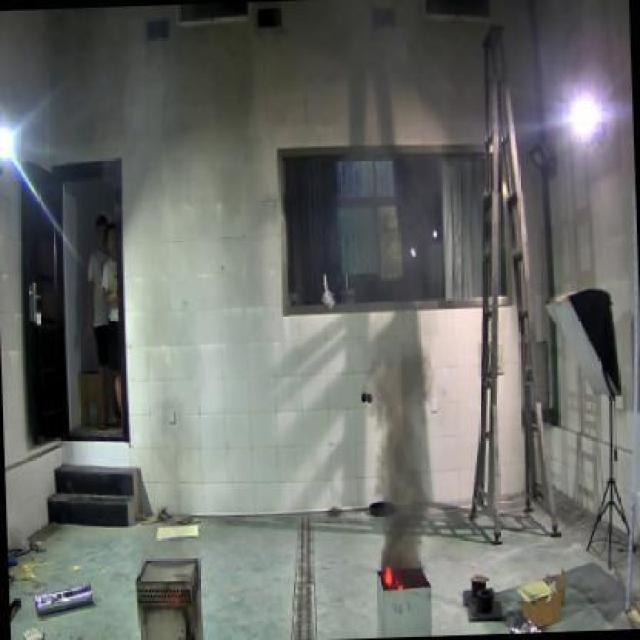fire: (369, 304, 440, 565)
smoke: (378, 565, 407, 593)
